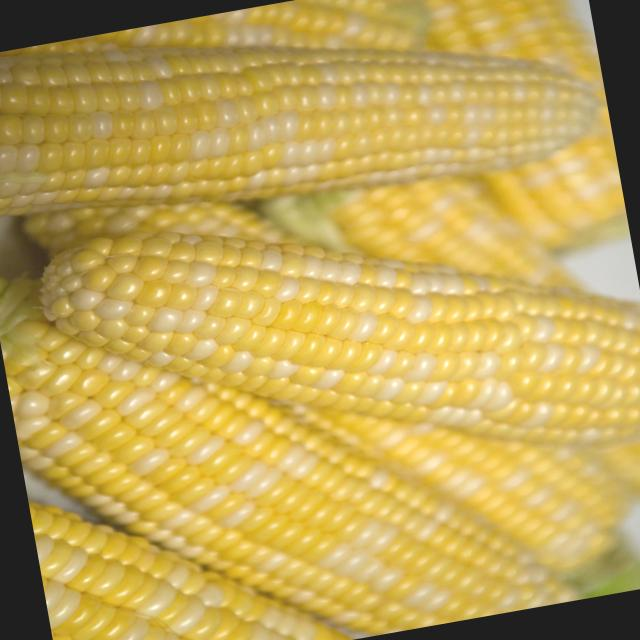corn: (34, 230, 640, 436), (0, 47, 593, 216)
